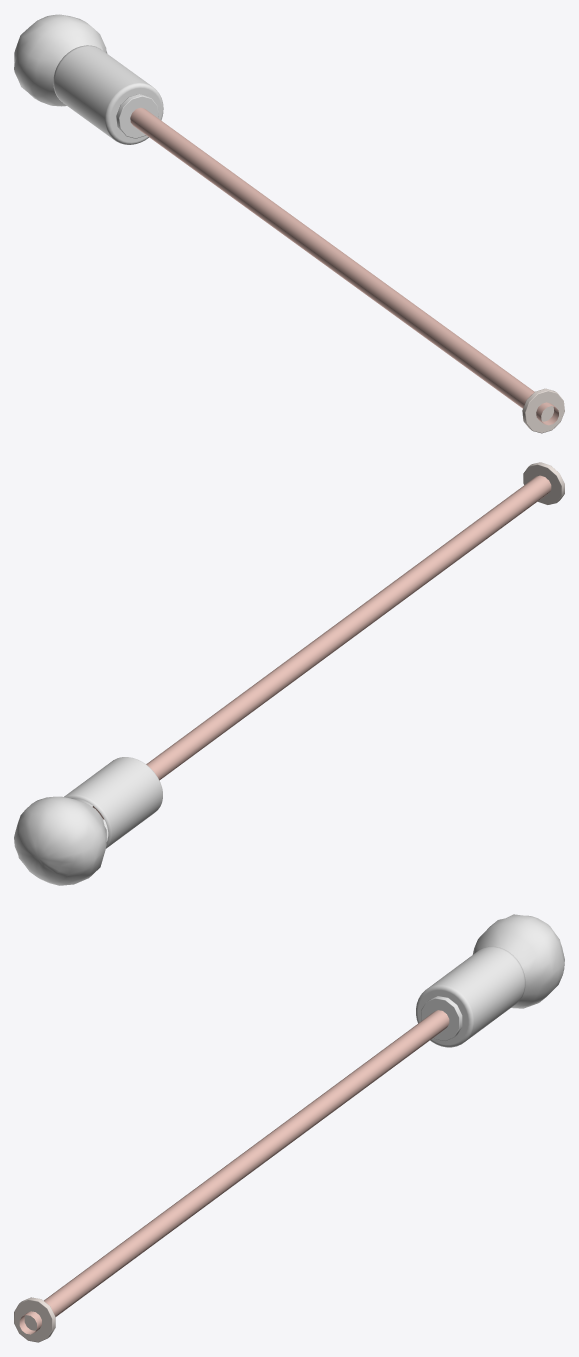
Rendered from branch.021_b.glb.
3 renders of one model, top to bottom at view 1: azimuth 30°, elevation 25°; view 2: azimuth 150°, elevation 25°; view 3: azimuth 330°, elevation 25°, orthographic.
Visible parts, largest first — view 1: MET-59_3D-Model.17671, MET-59_3D-Model.17670, glass.001, MET-59_3D-Model.17672; view 2: MET-59_3D-Model.17671, glass.001, MET-59_3D-Model.17670, MET-59_3D-Model.17672; view 3: MET-59_3D-Model.17671, MET-59_3D-Model.17670, glass.001, MET-59_3D-Model.17672.
Boxes of the visible parts, <box> form: MET-59_3D-Model.17671: <box>130,107,558,425</box>; MET-59_3D-Model.17670: <box>53,45,163,144</box>; glass.001: <box>14,14,107,106</box>; MET-59_3D-Model.17672: <box>522,388,564,433</box>; MET-59_3D-Model.17671: <box>92,475,551,819</box>; glass.001: <box>14,796,106,885</box>; MET-59_3D-Model.17670: <box>64,757,162,848</box>; MET-59_3D-Model.17672: <box>523,462,564,504</box>; MET-59_3D-Model.17671: <box>19,1010,449,1334</box>; MET-59_3D-Model.17670: <box>416,946,525,1047</box>; glass.001: <box>472,914,564,1008</box>; MET-59_3D-Model.17672: <box>14,1297,55,1342</box>.
Size of the model in its own units: 0.0496 by 0.0475 by 0.5407.
